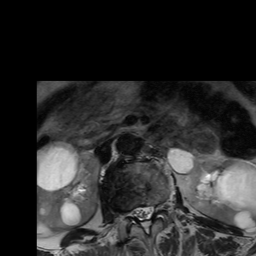CCS_normal: (141, 199, 148, 239)
LFS_stenosis: (154, 196, 162, 217)
LLS_normal: (147, 199, 154, 221)
RFS_stenosis: (125, 202, 133, 222)
RLS_normal: (133, 200, 141, 223)
